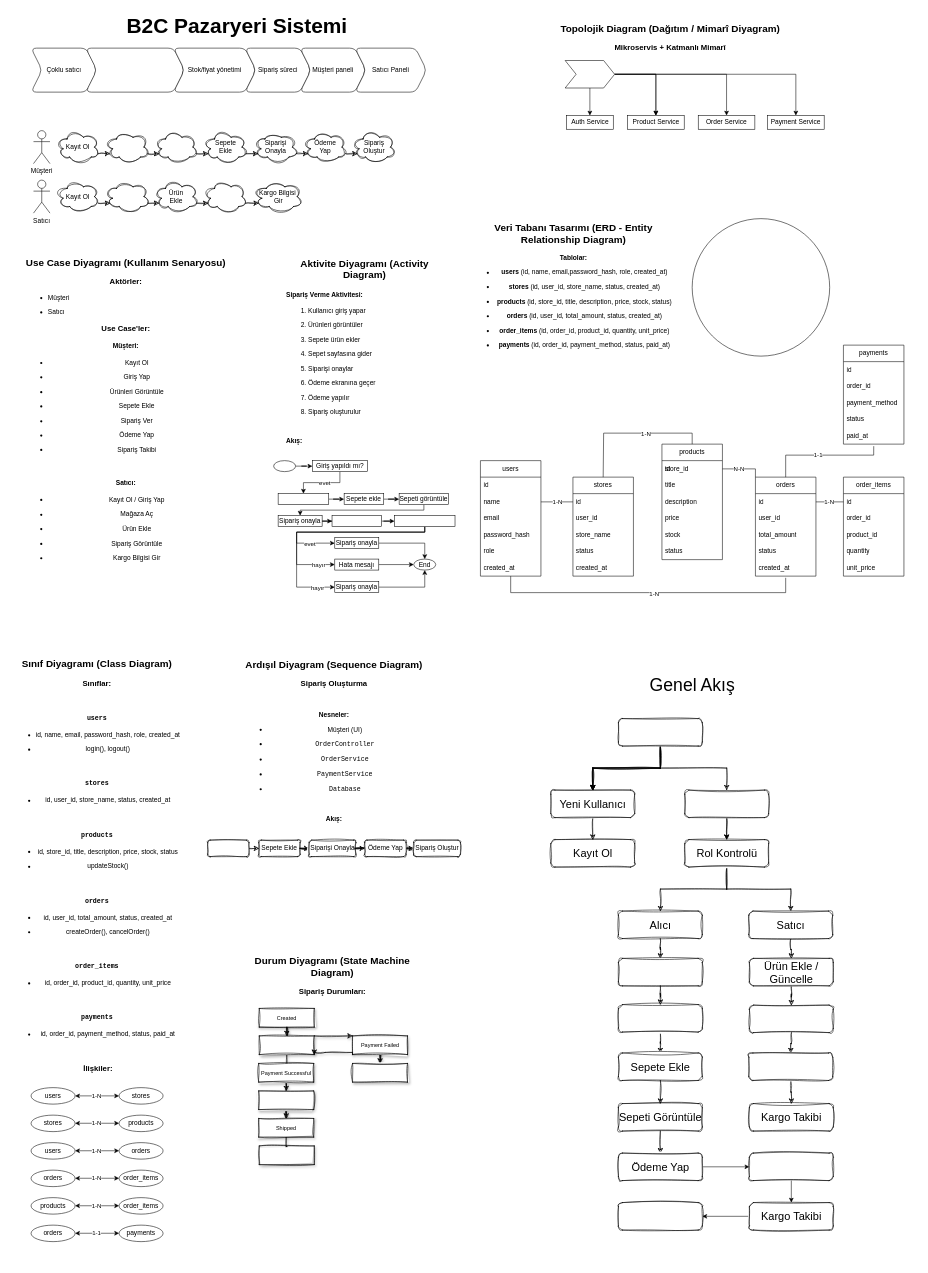
Some shapes in this 928 by 1273 pixel diagram are drawn without their labels. The centre of each missing label's shape, as x and y in pixels:
Awaiting Payment: (287,1045)
Canceled: (380,1073)
Client: (590,74)
Delivered: (287,1155)
Giriş Yap: (127,147)
Giriş Yapıldı: (726,804)
Kullanıcı Girişi: (660,732)
Mağaza Aç: (127,196)
Preparing Shipment: (286,1100)
Sepete Takibi: (225,196)
Sipariş Oluşturuldu: (791,1167)
Siparişi Hazırla: (790,1066)
Siparişleri Görüntüle: (791,1019)
Start: (284,466)
Teslimat & Yorum: (660,1216)
Veri Tabanı: (761,287)
Ödeme başarılı mı?: (424,521)
Ödeme Ekranı: (356,521)
Ürün Detayını Görüntüle: (660,1018)
Ürün ekleme/güncelleme: (135,70)
Ürün görüntüle: (303,499)
Ürün Seçer: (228,848)
Ürünleri Görüntüle: (176,147)
Ürünleri Listele & Ara: (660,972)
